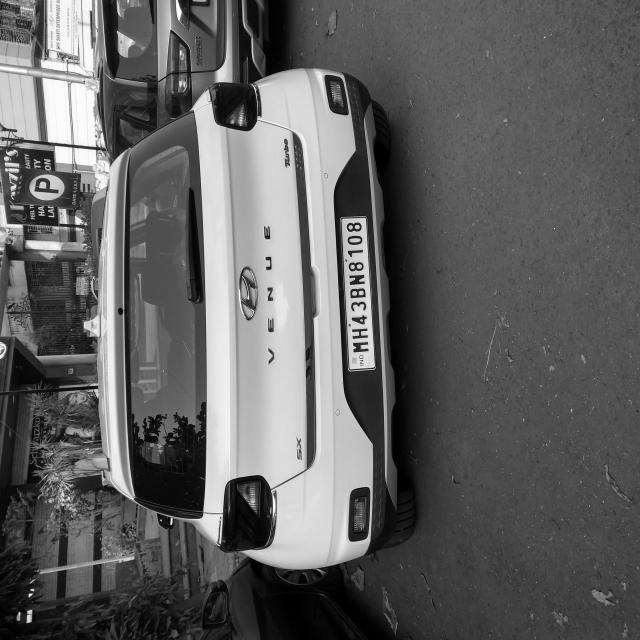car: (51, 115, 435, 556)
license-plate: (203, 449, 323, 507)
